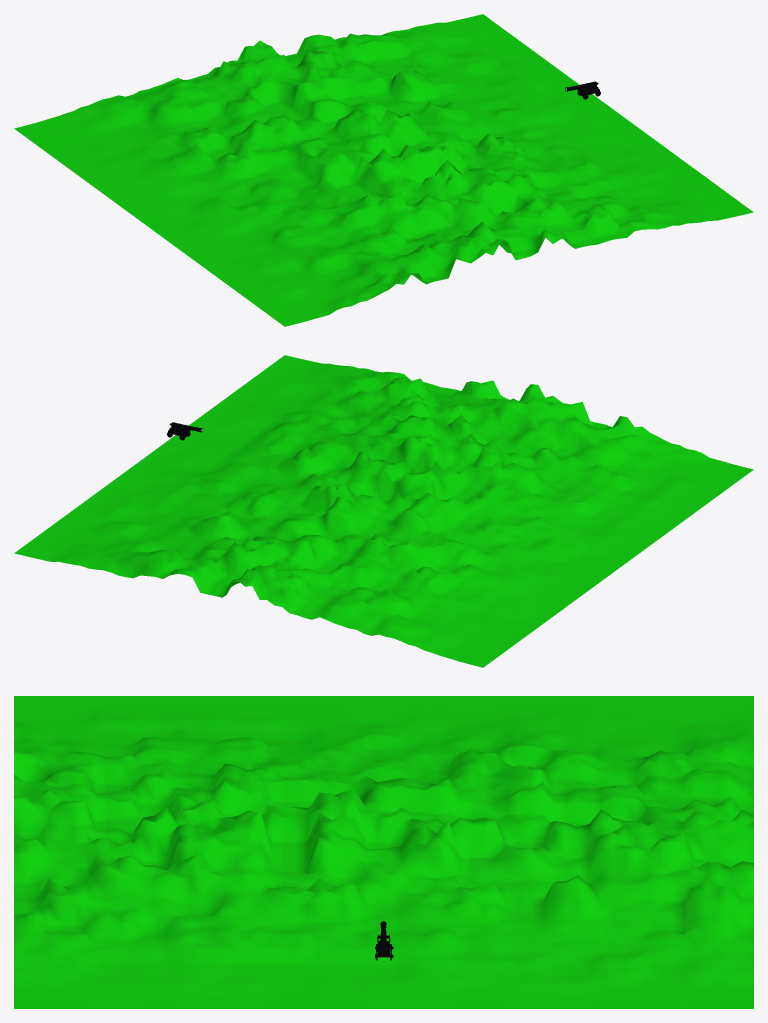
3 views of the same model, one above another, from view 1: azimuth 30°, elevation 25°; view 2: azimuth 150°, elevation 25°; view 3: azimuth 270°, elevation 25° (orthographic). The views are drawn at different scales.
Visible parts, largest first — view 1: Landscape; view 2: Landscape; view 3: Landscape.
Part boxes in pixels (x1=…): Landscape: x1=14, y1=14, x2=753, y2=326; Landscape: x1=14, y1=355, x2=753, y2=667; Landscape: x1=14, y1=696, x2=753, y2=1008.
Bounding box in the file's own units: 16 × 1.26 × 16.
